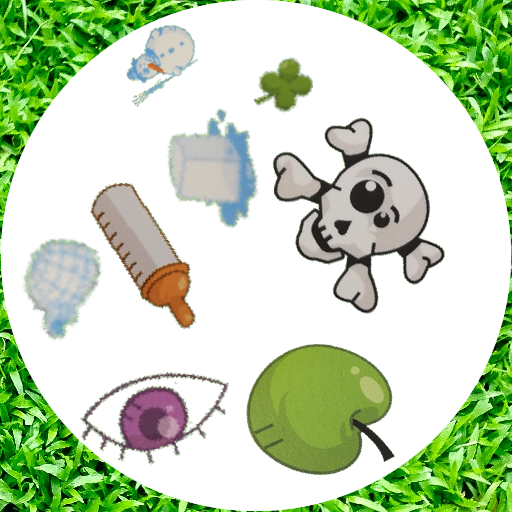apple_icon: (241, 323, 397, 479)
bottle_icon: (63, 173, 230, 340)
cloverleaf_icon: (248, 50, 313, 115)
cube_icon: (142, 105, 272, 235)
eye_icon: (79, 335, 233, 489)
igloo_icon: (11, 238, 115, 342)
skull_icon: (256, 109, 472, 325)
snowman_icon: (116, 23, 205, 112)
